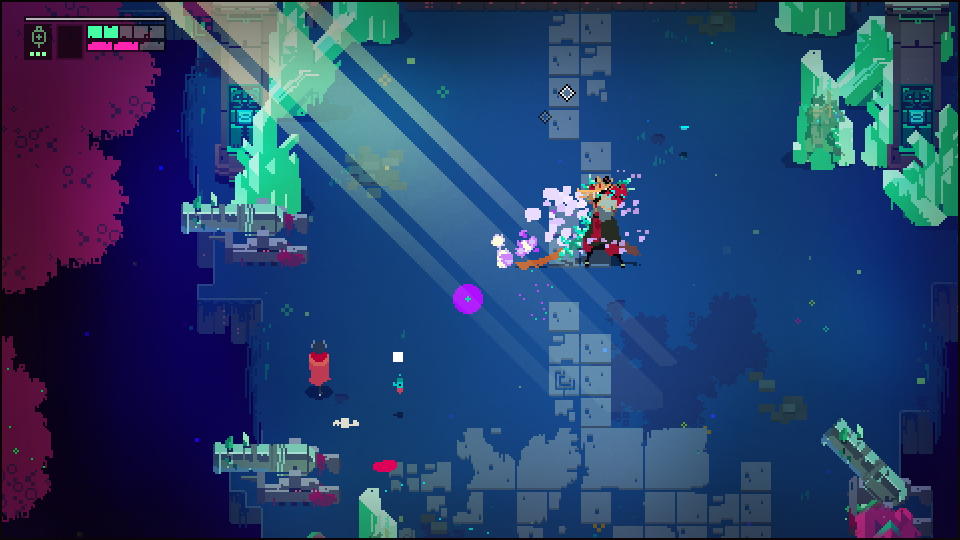hanged_man: (558, 170, 644, 278)
hanged_shot: (452, 282, 484, 316)
player: (304, 340, 330, 390)
